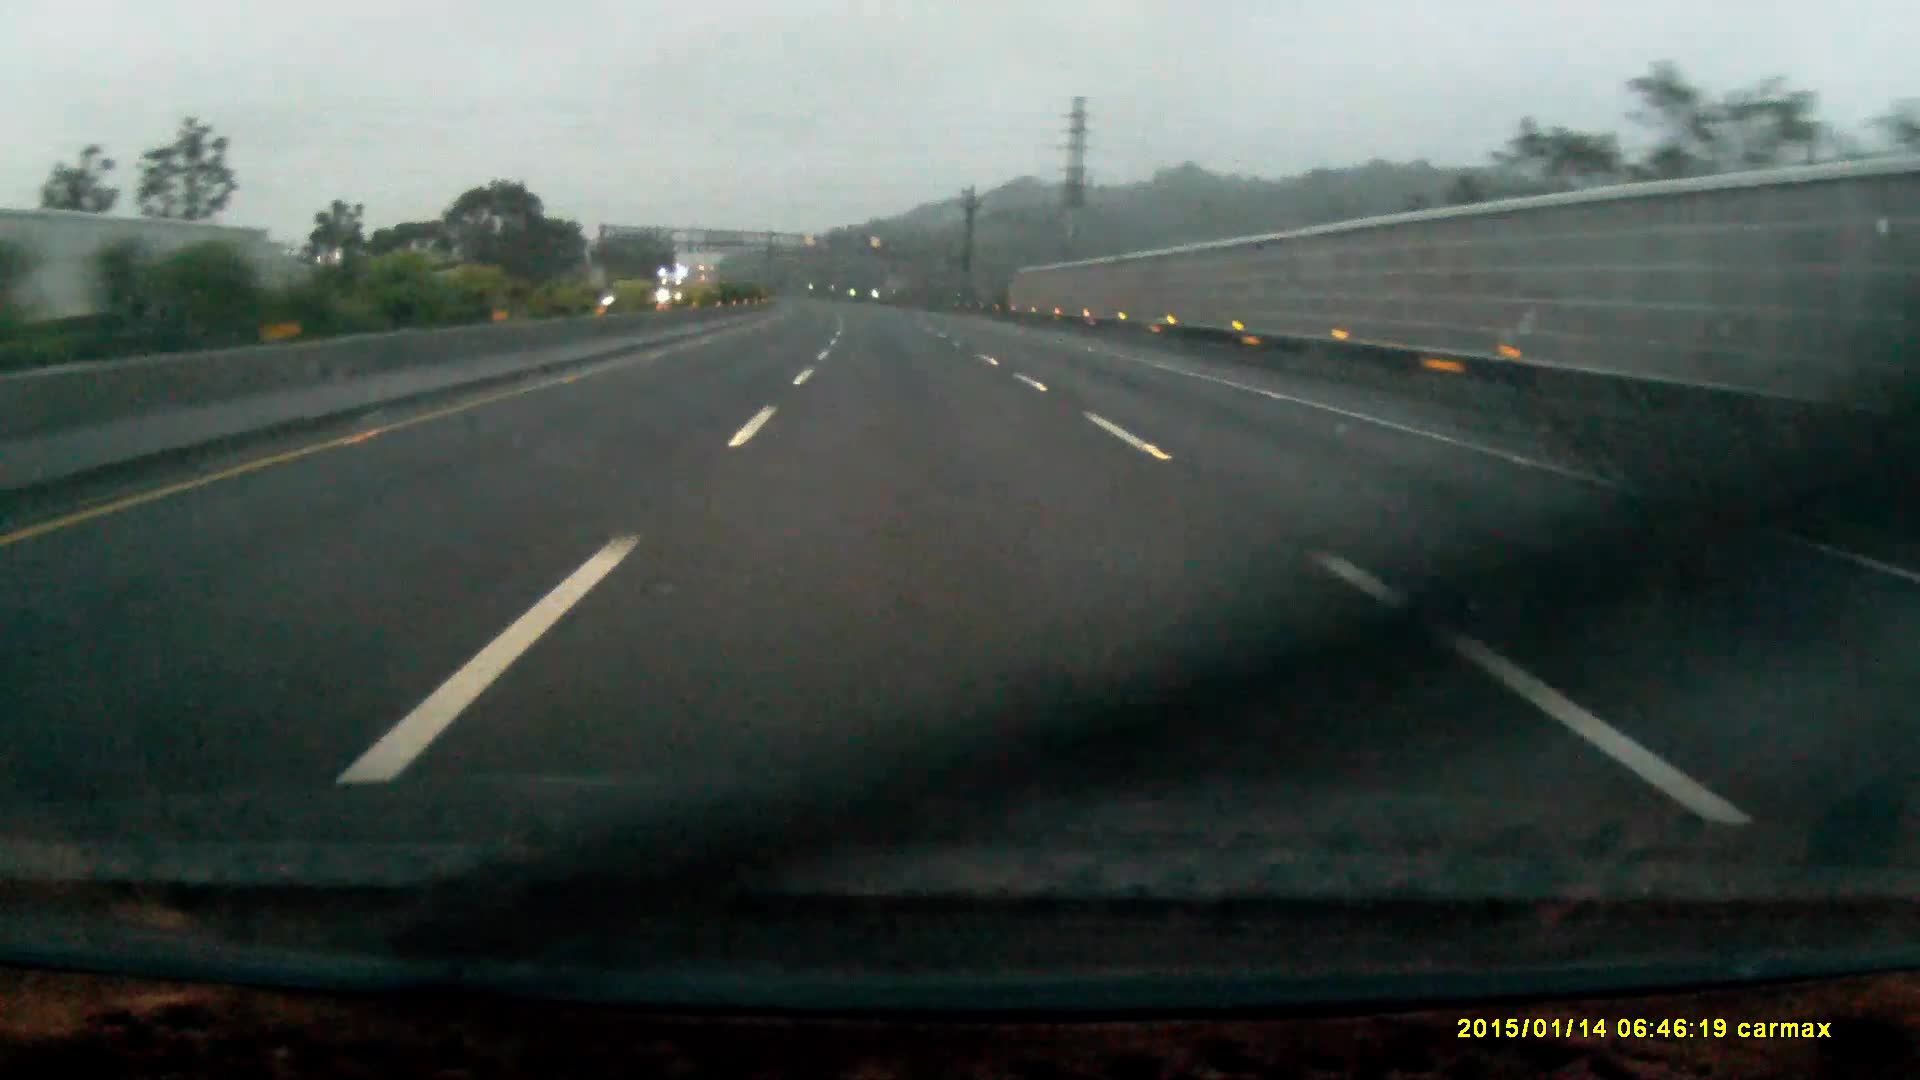vehicle: (657, 268, 695, 303)
